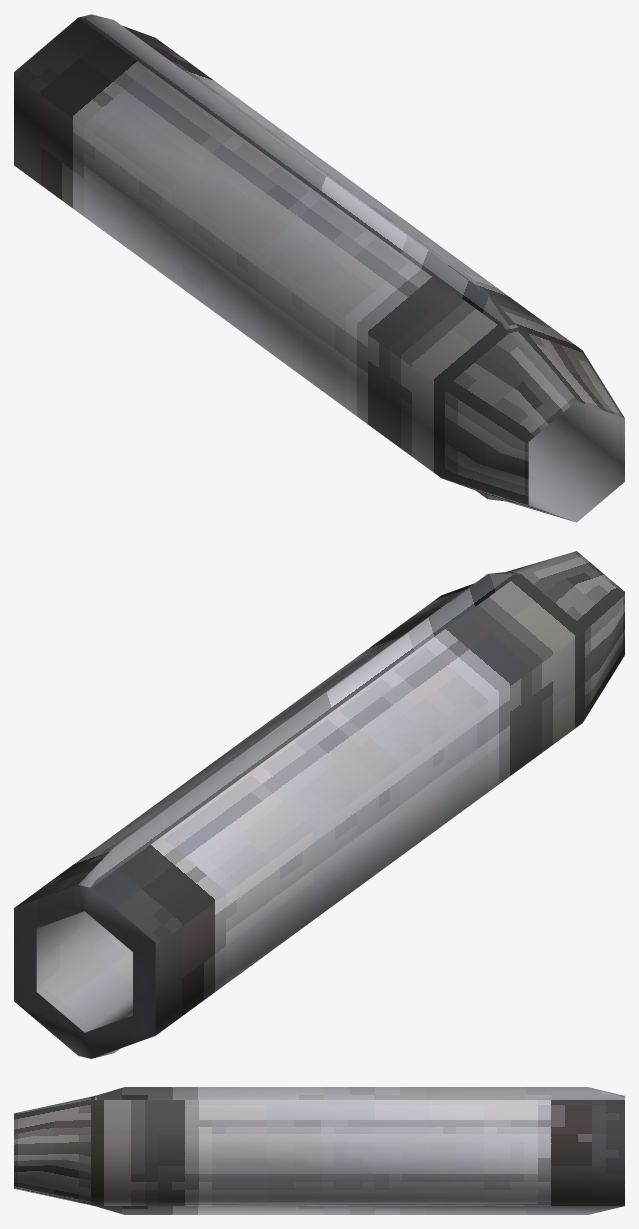
Rendered from eqp_comp_chaff_launcher_l3.fbx.
3 views of the same model, one above another, from view 1: azimuth 30°, elevation 25°; view 2: azimuth 150°, elevation 25°; view 3: azimuth 270°, elevation 25° (orthographic). The views are drawn at different scales.
Parts seen in each view (by area): view 1: mesh_node; view 2: mesh_node; view 3: mesh_node.
Part boxes in pixels (box(x1,y1,x2,y2)): mesh_node: box(14, 14, 624, 522); mesh_node: box(14, 551, 624, 1058); mesh_node: box(14, 1087, 624, 1214).
Bounding box in the file's own units: 0.332 × 0.462 × 2.
